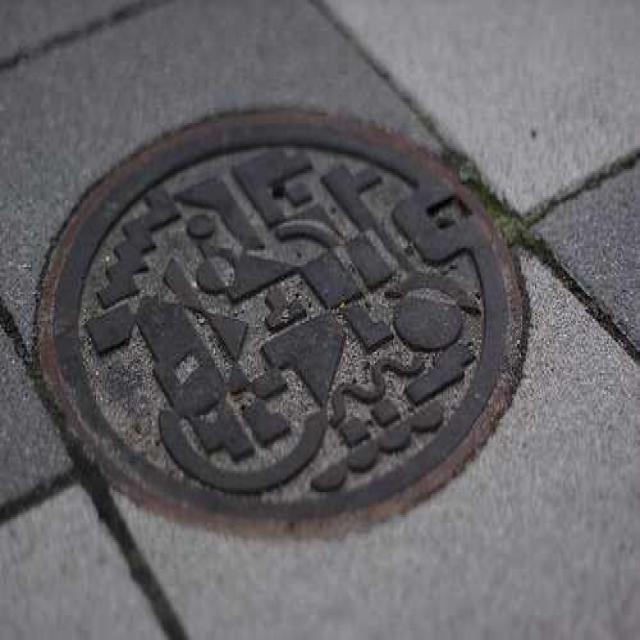manhole: (33, 110, 530, 544)
